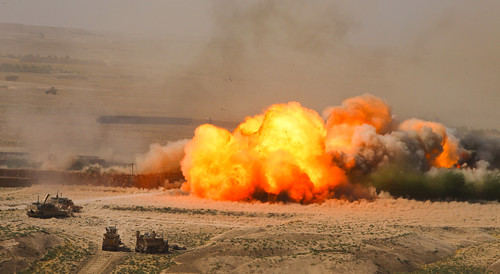fire: (180, 106, 340, 204)
smoke: (144, 100, 441, 201)
tank: (18, 190, 81, 221)
